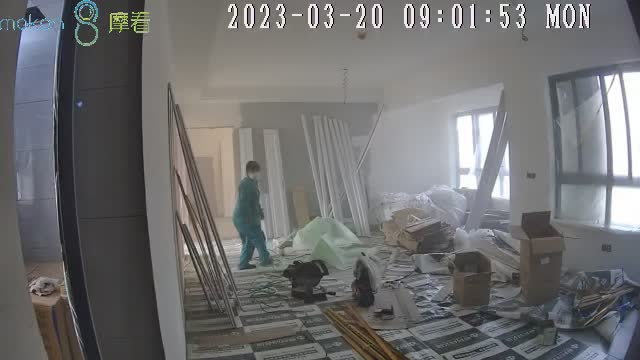people: (232, 161, 270, 269)
window: (553, 69, 640, 234), (455, 114, 511, 205)
